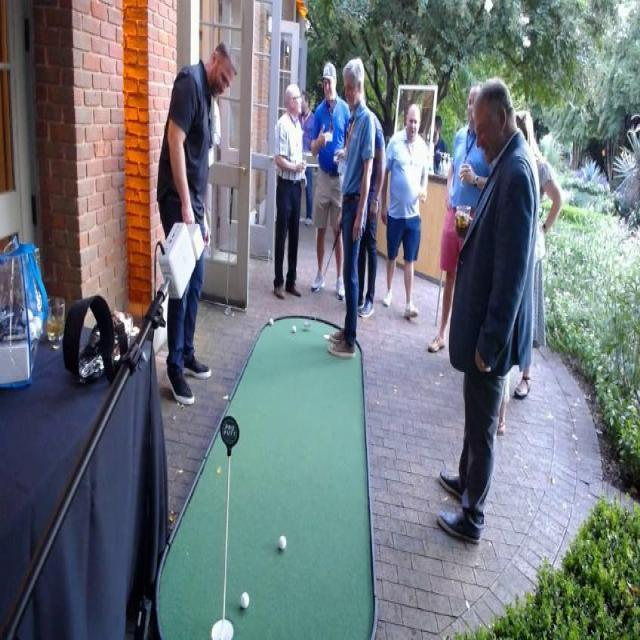GolfBall: (274, 532, 290, 558), (236, 588, 252, 611), (266, 314, 278, 330), (289, 324, 298, 336)
